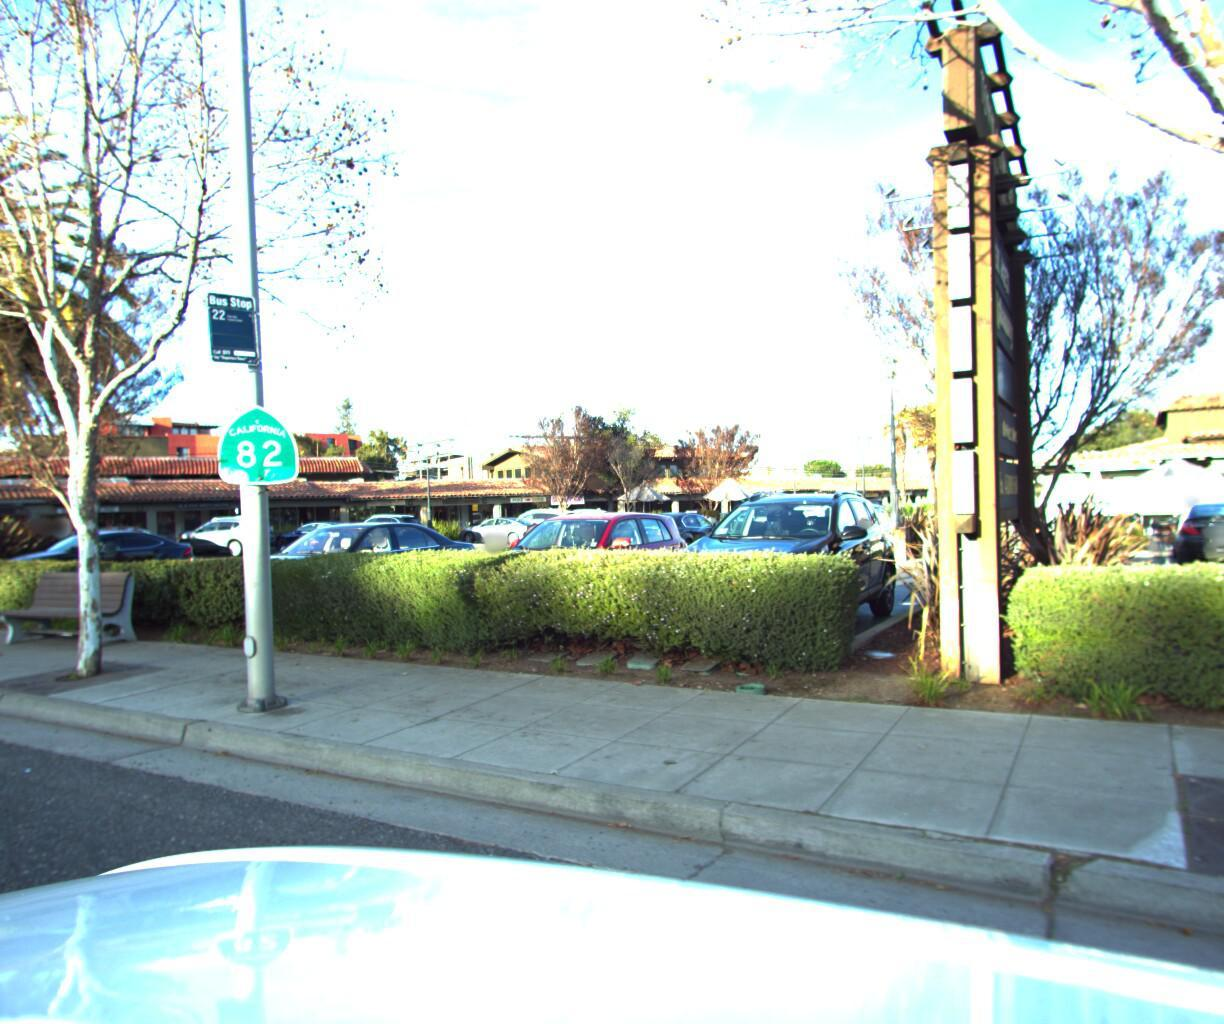car: (650, 480, 901, 672), (444, 503, 699, 661), (213, 508, 489, 624)
